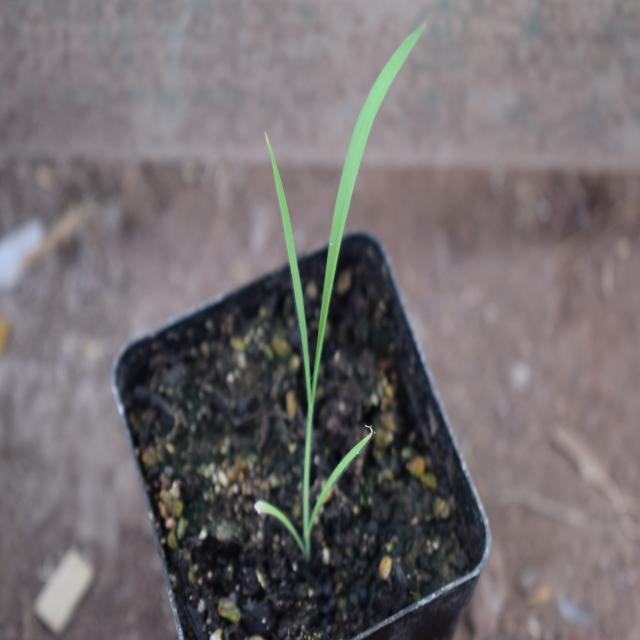crabgrass: (244, 1, 417, 578)
